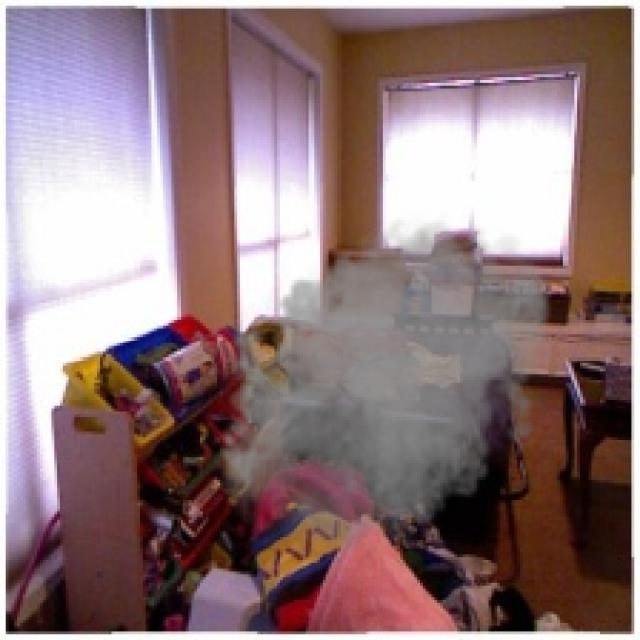Smoke: (208, 212, 558, 572)
